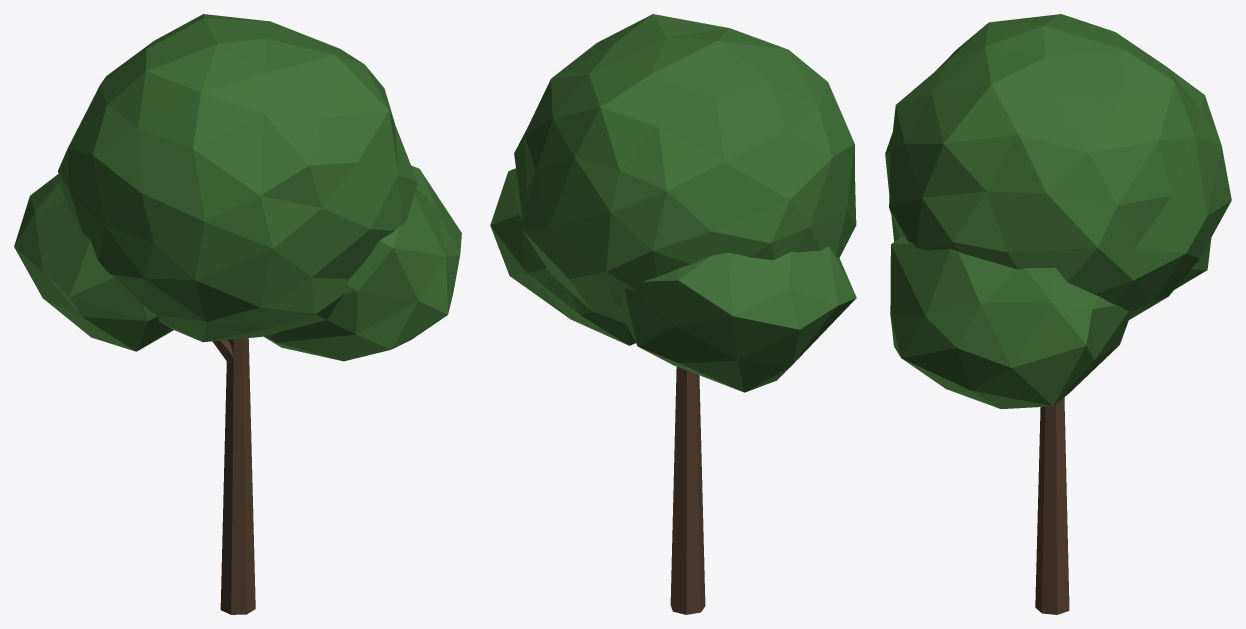
Rendered from street-tree-hi.glb.
The picture shows the model from 3 angles, left to right: view 1: azimuth 30°, elevation 25°; view 2: azimuth 150°, elevation 25°; view 3: azimuth 270°, elevation 25°; orthographic projection.
Parts seen in each view (by area): view 1: street_tree_hi; view 2: street_tree_hi; view 3: street_tree_hi.
Part boxes in pixels (x1,y1,x2,y2): street_tree_hi: (14, 14, 461, 614); street_tree_hi: (490, 14, 856, 614); street_tree_hi: (885, 14, 1231, 614).
Bounding box in the file's own units: 4.82 × 7.02 × 3.87.
